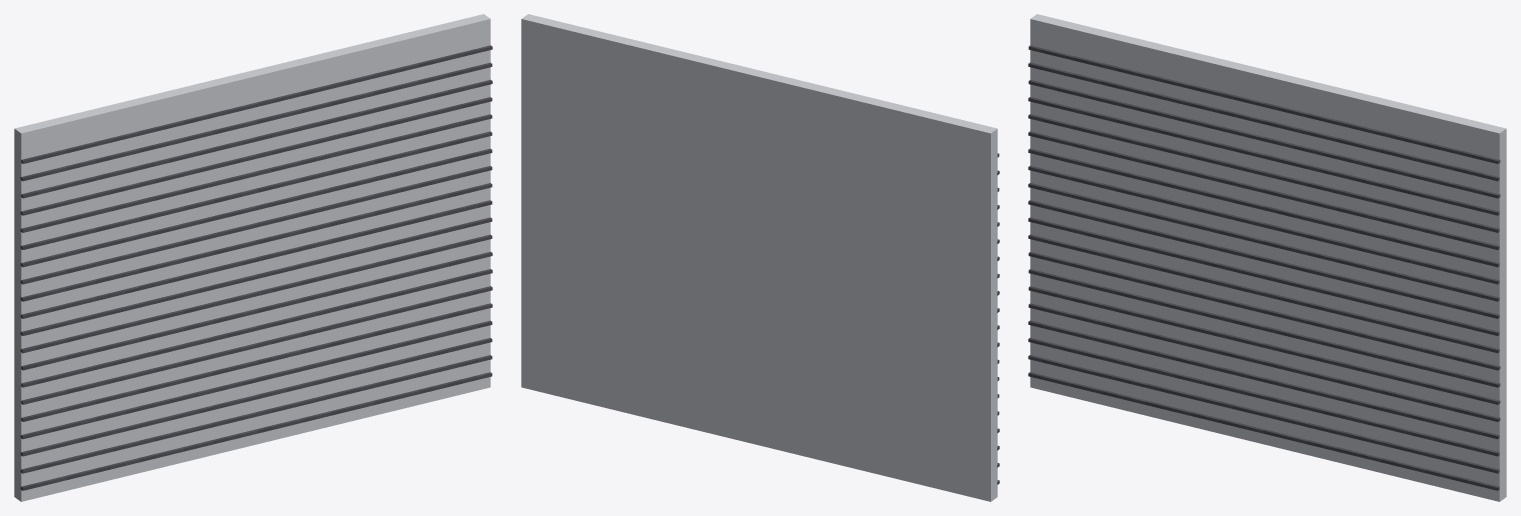
The model's file is three-d-retro-arcade-and-mall-1989-retro-arcade-and-mall-1989-roller-shutter-f51fda37.glb.
3 renders of one model, left to right at view 1: azimuth 30°, elevation 25°; view 2: azimuth 150°, elevation 25°; view 3: azimuth 330°, elevation 25°, orthographic.
Visible parts, largest first — view 1: roller-shutter; view 2: roller-shutter; view 3: roller-shutter.
Part boxes in pixels (x1,y1,x2,y2): roller-shutter: (14,14,492,501); roller-shutter: (521,14,999,501); roller-shutter: (1028,14,1506,501).
Size of the model in its own units: 4 by 3 by 0.125.
Materials: 2 (1 with a texture image).
